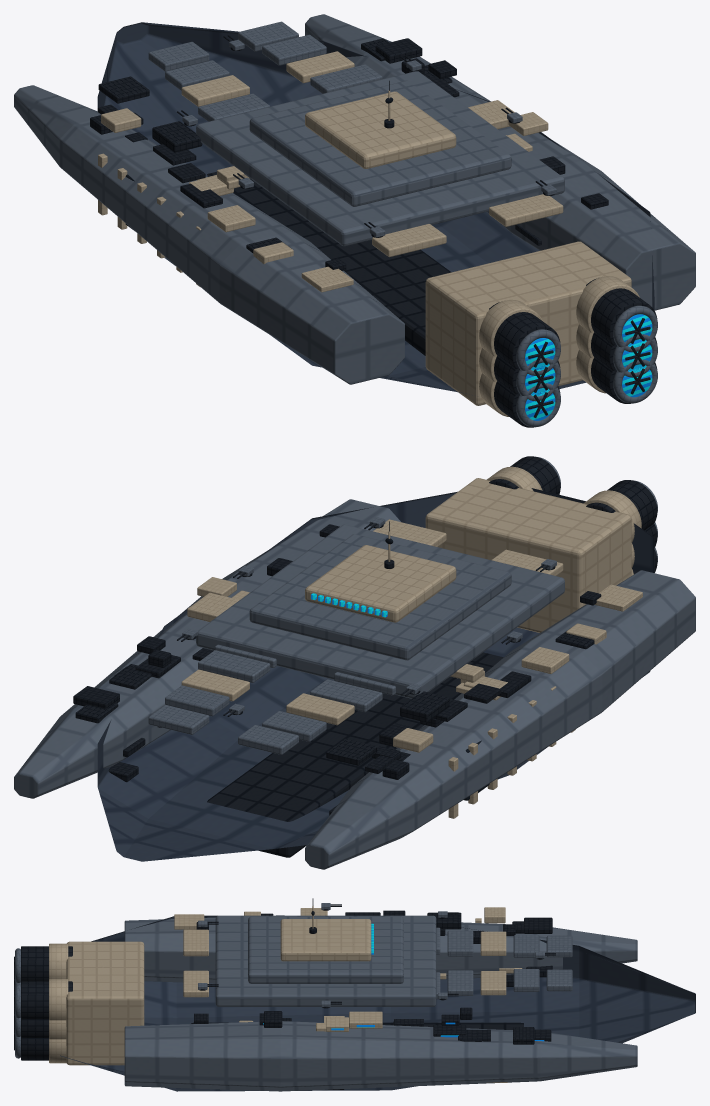
Rendered from aur-atlas-cruiser.glb.
3 renders of one model, top to bottom at view 1: azimuth 30°, elevation 25°; view 2: azimuth 150°, elevation 25°; view 3: azimuth 270°, elevation 25°, orthographic. The views are drawn at different scales.
Parts seen in each view (by area): view 1: Outrigger_L, Central_Citadel, Spearhead_Hull, Outrigger_R, Engine_Wall, Citadel_Tier_2, Ventral_Keel, Citadel_Tier_3, Main_Engine_5, Main_Engine_6, Cruiser_Dorsal_Plate_R_01, Cruiser_Dorsal_Plate_L_01 (+25 smaller); view 2: Outrigger_L, Spearhead_Hull, Central_Citadel, Engine_Wall, Outrigger_R, Citadel_Tier_2, Ventral_Keel, Citadel_Tier_3, Cruiser_Dorsal_Plate_R_09, Cruiser_Dorsal_Plate_L_10, Cruiser_Dorsal_Plate_L_09, Main_Engine_5 (+19 smaller); view 3: Outrigger_R, Spearhead_Hull, Central_Citadel, Engine_Wall, Outrigger_L, Citadel_Tier_2, Citadel_Tier_3, Main_Engine_6, Main_Engine_5, Main_Engine_6_Armor, Cruiser_Dorsal_Plate_L_01, Cruiser_Dorsal_Plate_L_09 (+24 smaller).
Part boxes in pixels (<box>): Outrigger_L: <box>14,85,404,384</box>; Central_Citadel: <box>196,71,564,246</box>; Spearhead_Hull: <box>97,22,654,395</box>; Outrigger_R: <box>305,14,695,310</box>; Engine_Wall: <box>425,241,631,405</box>; Citadel_Tier_2: <box>249,80,511,206</box>; Ventral_Keel: <box>207,171,451,355</box>; Citadel_Tier_3: <box>305,91,456,168</box>; Main_Engine_5: <box>489,302,560,370</box>; Main_Engine_6: <box>586,278,657,345</box>; Cruiser_Dorsal_Plate_R_01: <box>489,194,563,226</box>; Cruiser_Dorsal_Plate_L_01: <box>372,224,446,257</box>; Outrigger_L: <box>305,570,695,869</box>; Spearhead_Hull: <box>97,488,654,861</box>; Central_Citadel: <box>196,524,564,698</box>; Engine_Wall: <box>425,478,631,632</box>; Outrigger_R: <box>14,499,400,798</box>; Citadel_Tier_2: <box>249,534,511,660</box>; Ventral_Keel: <box>207,652,503,857</box>; Citadel_Tier_3: <box>305,545,456,622</box>; Cruiser_Dorsal_Plate_R_09: <box>198,650,270,682</box>; Cruiser_Dorsal_Plate_L_10: <box>286,693,354,725</box>; Cruiser_Dorsal_Plate_L_09: <box>310,679,382,712</box>; Main_Engine_5: <box>586,480,657,530</box>; Outrigger_R: <box>124,1021,637,1091</box>; Spearhead_Hull: <box>60,915,695,1091</box>; Central_Citadel: <box>215,915,436,1006</box>; Engine_Wall: <box>66,941,144,1065</box>; Outrigger_L: <box>124,915,637,983</box>; Citadel_Tier_2: <box>248,916,403,983</box>; Citadel_Tier_3: <box>280,919,371,961</box>; Main_Engine_6: <box>21,981,72,1019</box>; Main_Engine_5: <box>21,946,72,981</box>; Main_Engine_6_Armor: <box>49,979,68,1020</box>; Cruiser_Dorsal_Plate_L_01: <box>183,929,208,956</box>; Cruiser_Dorsal_Plate_L_09: <box>447,931,473,956</box>.
Bounding box in the file's own units: 431 × 240 × 893.
6 materials, 5 textured.
